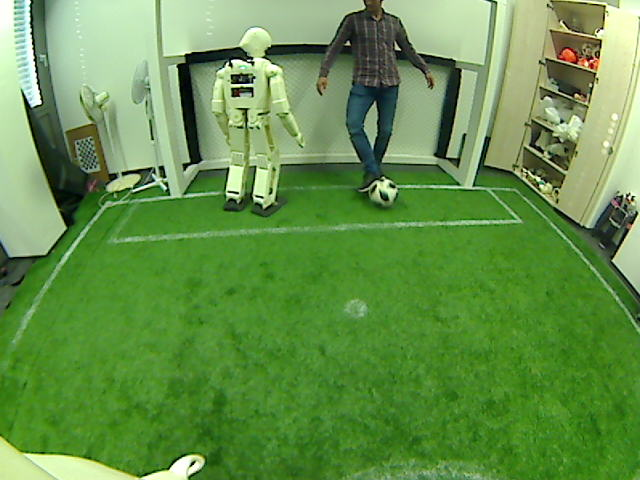ball: (373, 179, 395, 203)
goalpost: (457, 150, 476, 189), (169, 163, 186, 197)
robot: (219, 138, 285, 213)
